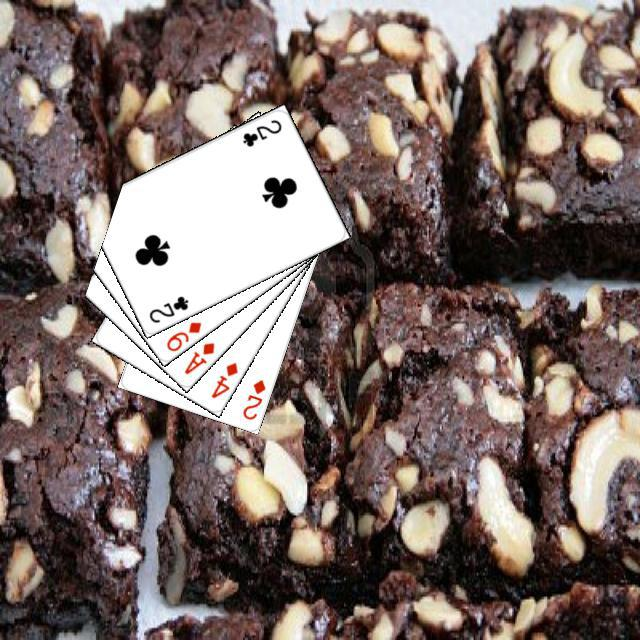2c: (237, 114, 283, 149), (144, 291, 190, 325)
2d: (238, 374, 268, 421)
4d: (206, 357, 240, 400)
9d: (161, 317, 203, 353)
Ad: (179, 337, 216, 376)
